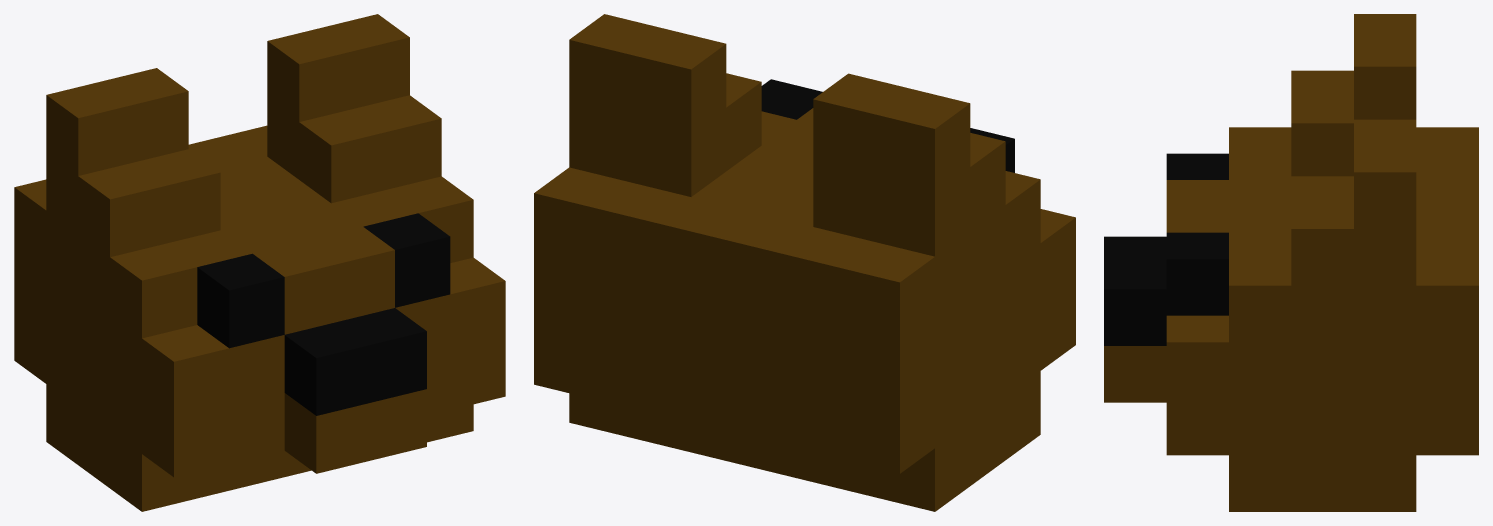
File: bear_head.fbx
The picture shows the model from 3 angles, left to right: view 1: azimuth 30°, elevation 25°; view 2: azimuth 150°, elevation 25°; view 3: azimuth 270°, elevation 25°; orthographic projection. The views are drawn at different scales.
Visible parts, largest first — view 1: bear_head; view 2: bear_head; view 3: bear_head.
Part boxes in pixels (x1,y1,x2,y2): bear_head: [14, 14, 505, 511]; bear_head: [534, 14, 1075, 511]; bear_head: [1104, 14, 1478, 511].
Size of the model in its own units: 0.6 by 0.6 by 0.6.
